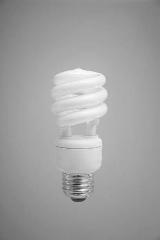lightbulb: (51, 68, 108, 202)
